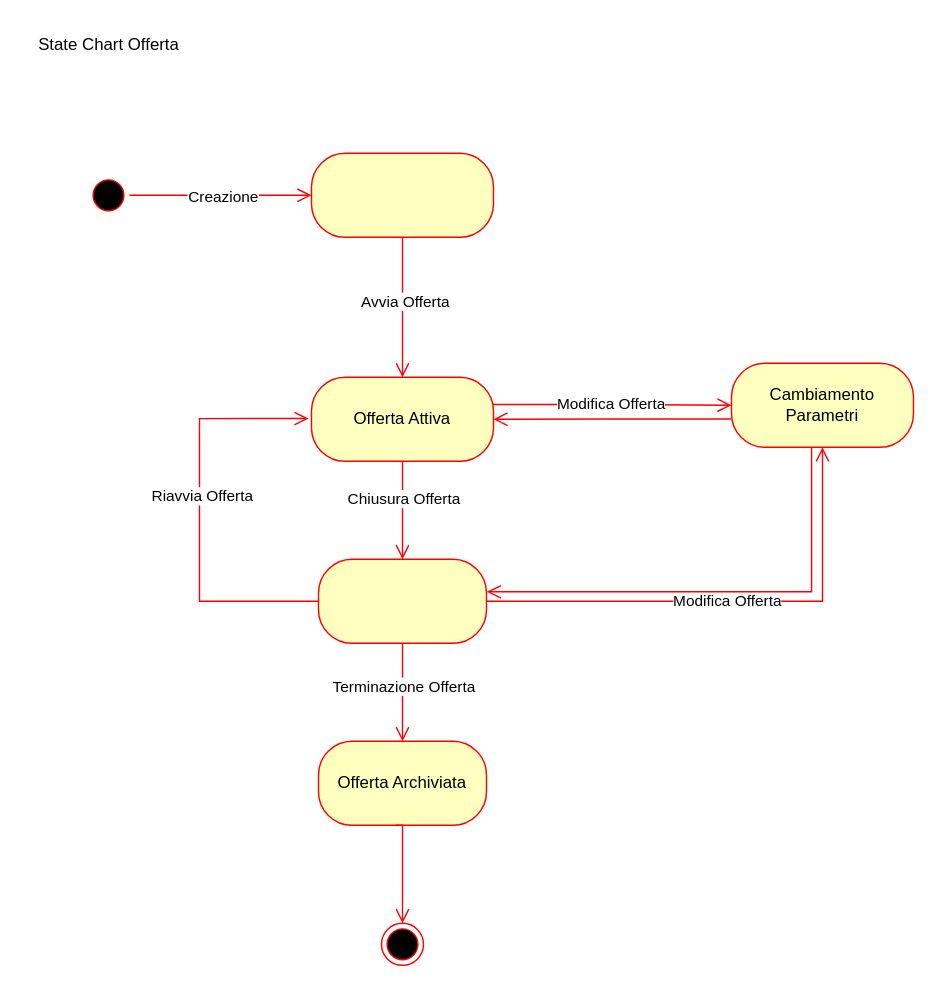
The diagram is 938 pixels wide and 990 high, and some of its shapes have lost their labels. The shapes that lost their labels are listed below. From the top down, each one's centre as x and y in pixels, then its label:
(401,194): Offerta in Compilazione
(401,600): Offerta Chiusa
